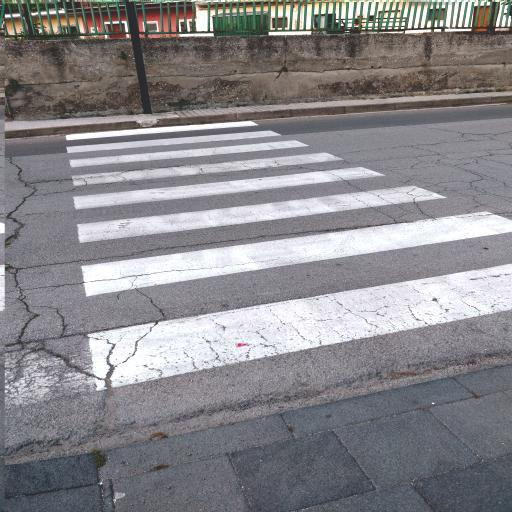crosswalk: (62, 165, 486, 249), (52, 118, 342, 155)
